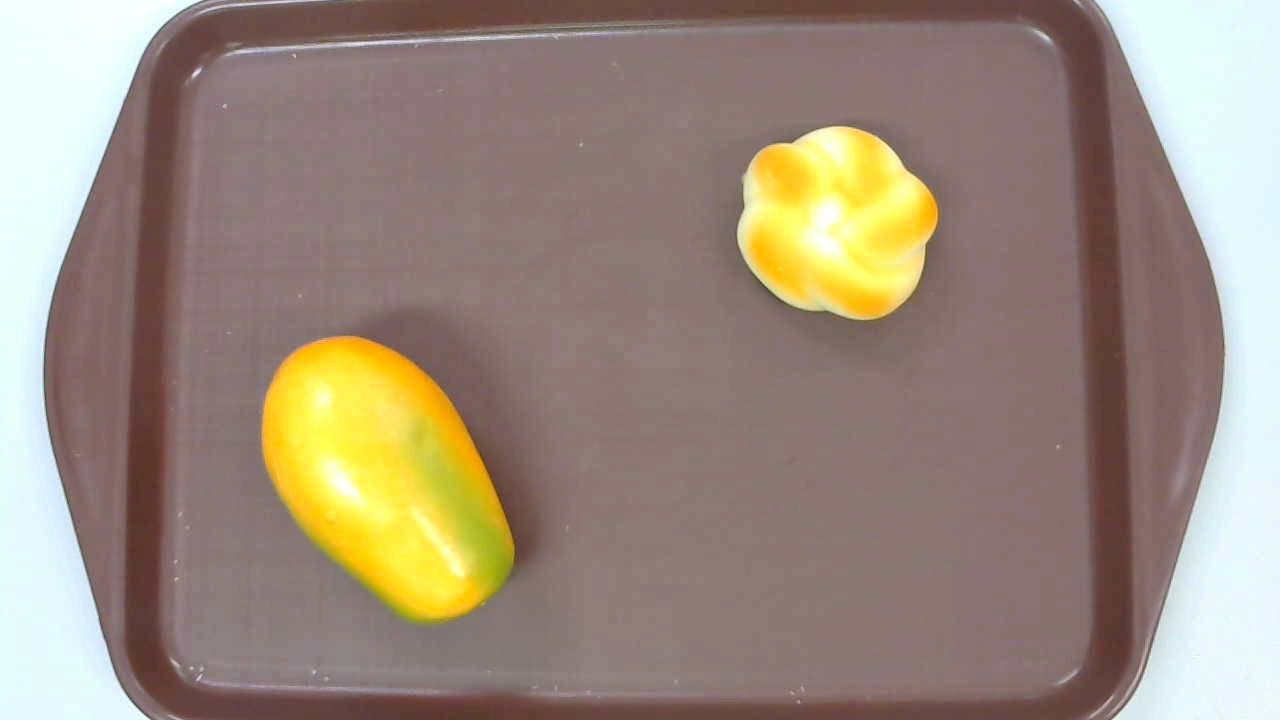papya: (261, 335, 516, 628)
twist bread: (737, 125, 938, 321)
